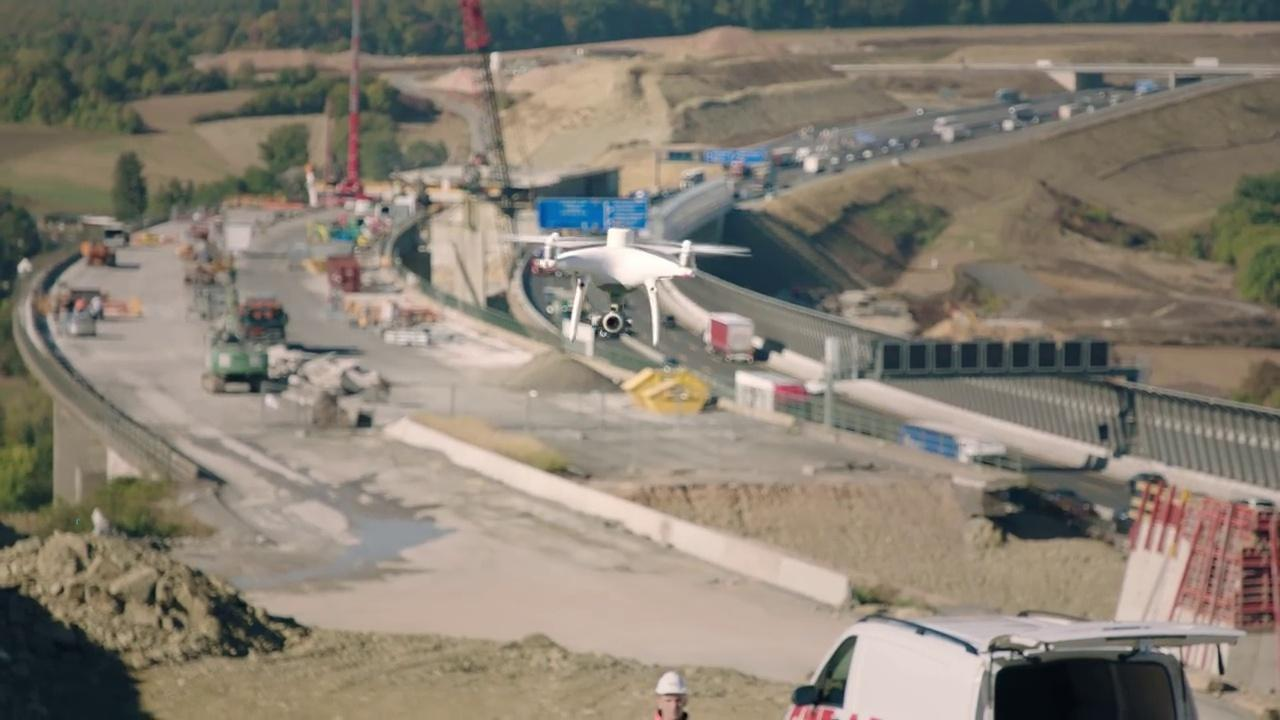drone: (505, 225, 752, 344)
